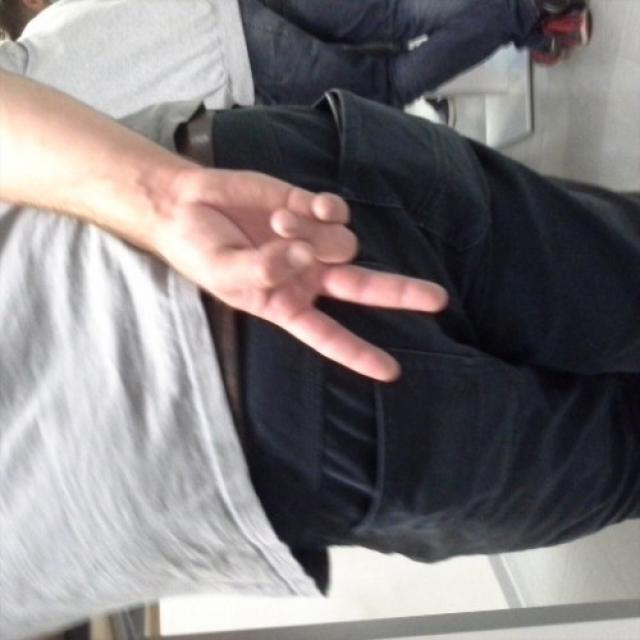scissors: (216, 170, 450, 388)
